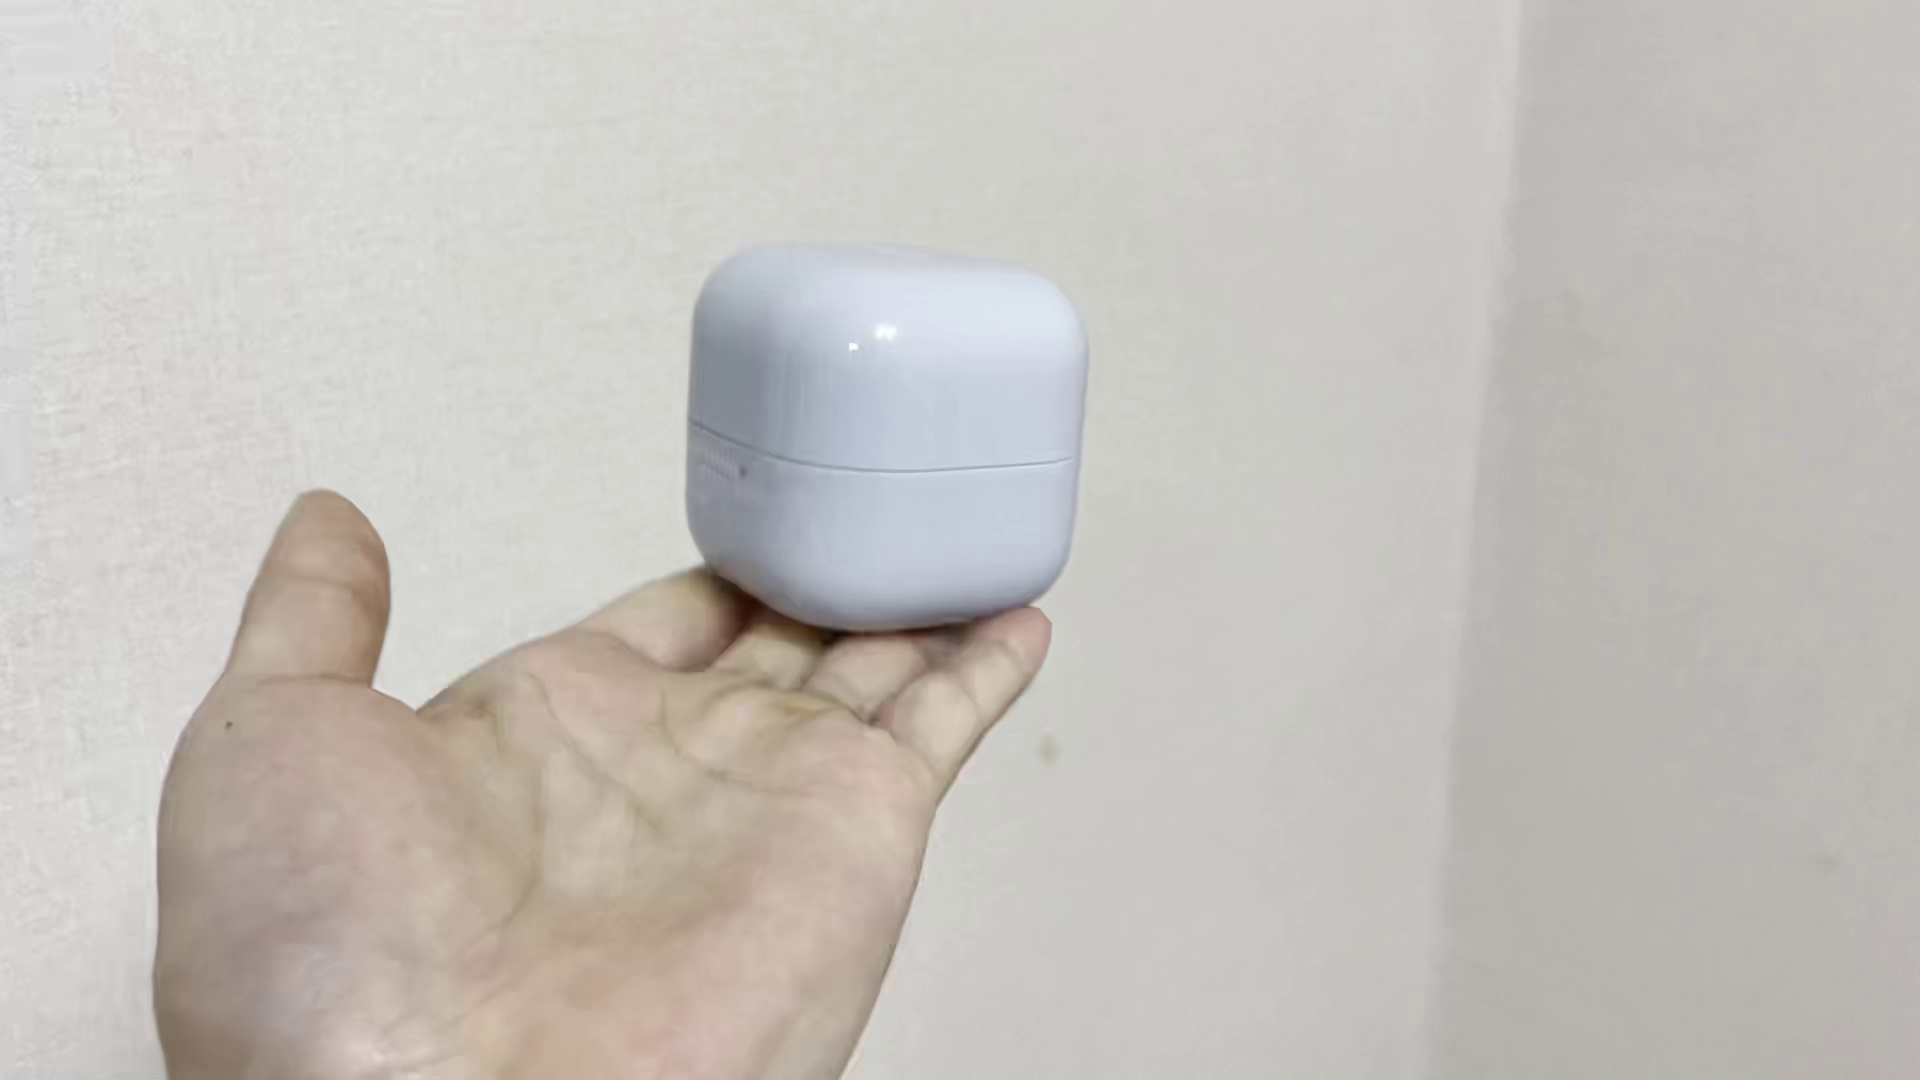cream: (682, 240, 1088, 634)
